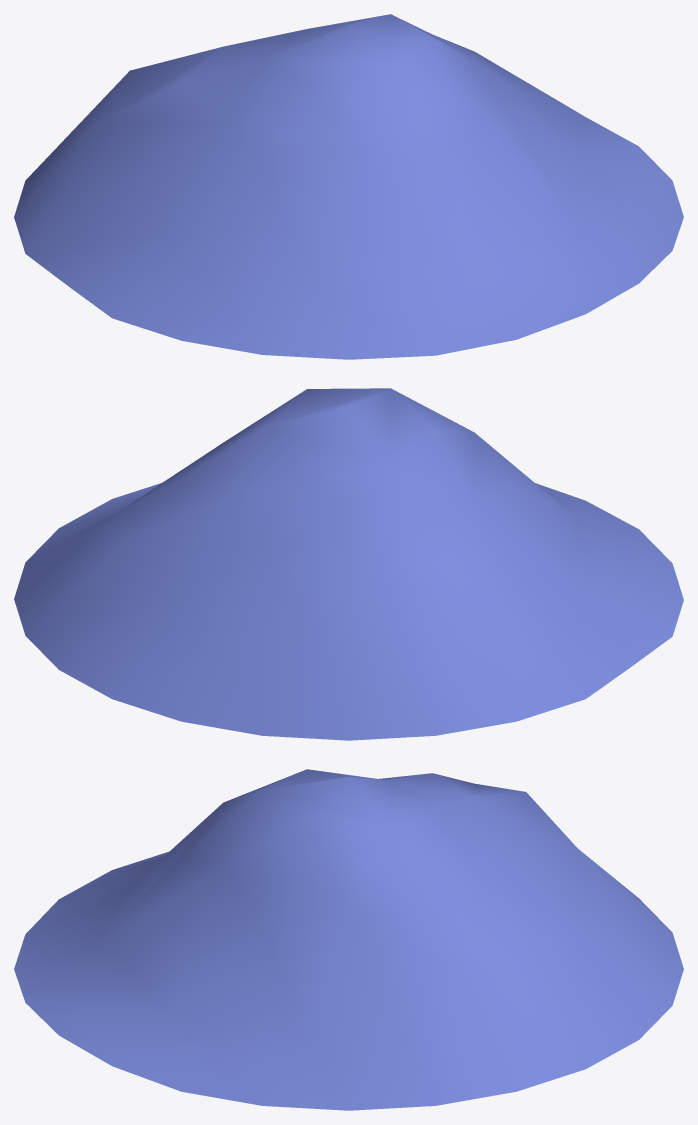
File: pilaDeRopa02.fbx
3 views of the same model, one above another, from view 1: azimuth 30°, elevation 25°; view 2: azimuth 150°, elevation 25°; view 3: azimuth 270°, elevation 25° (orthographic).
Visible parts, largest first — view 1: pilaDeRopa02; view 2: pilaDeRopa02; view 3: pilaDeRopa02.
Part boxes in pixels (box(x1,y1,x2,y2)): pilaDeRopa02: box(14, 14, 683, 359); pilaDeRopa02: box(14, 388, 683, 740); pilaDeRopa02: box(14, 769, 683, 1110).
Bounding box in the file's own units: 0.8037 × 0.2613 × 0.8176.
